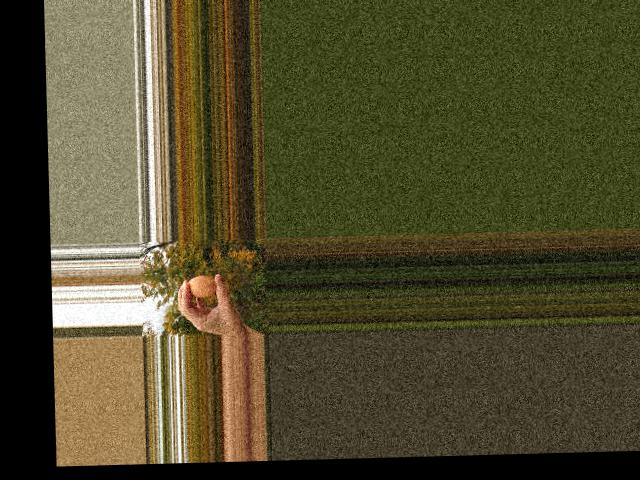egg: (187, 275, 216, 297)
